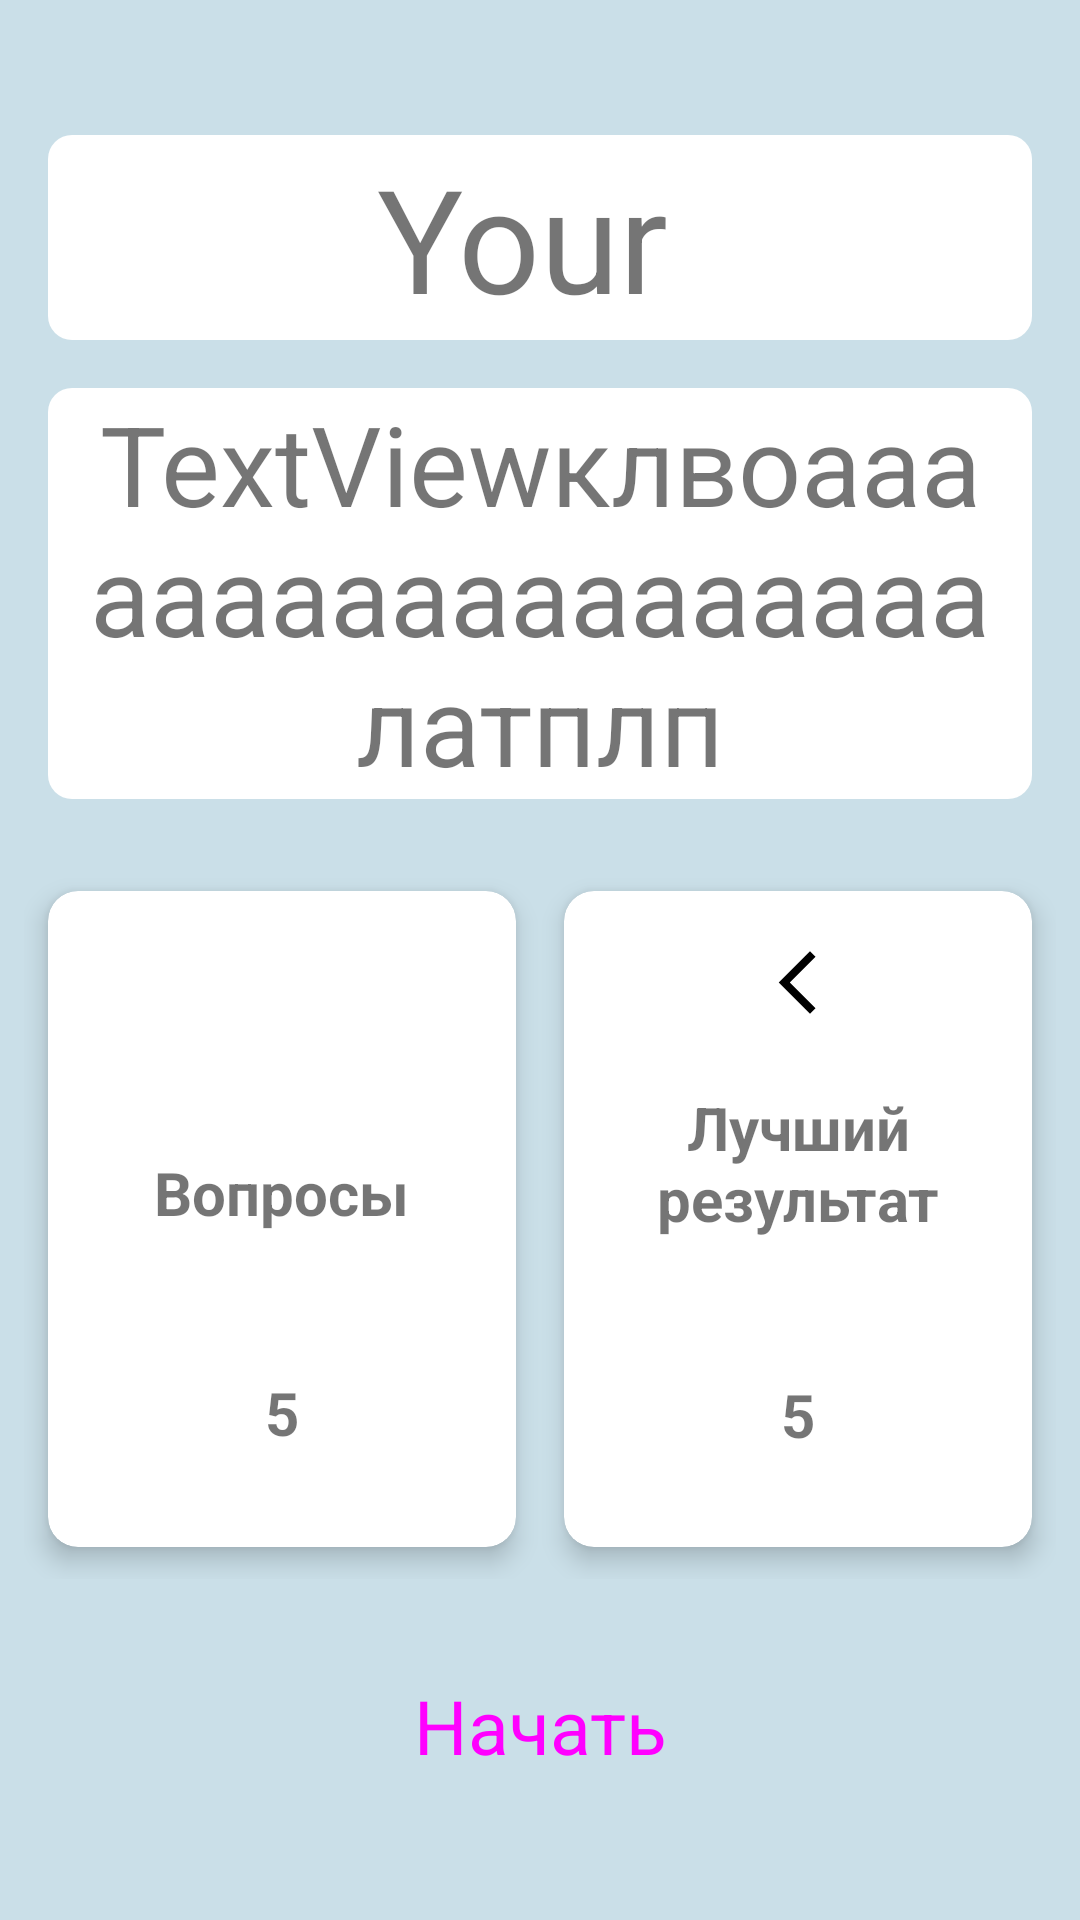

Icons on this 1080*1920 Android screen, each with the point to tap as point (x, y):
arrow back: point (797, 982)
